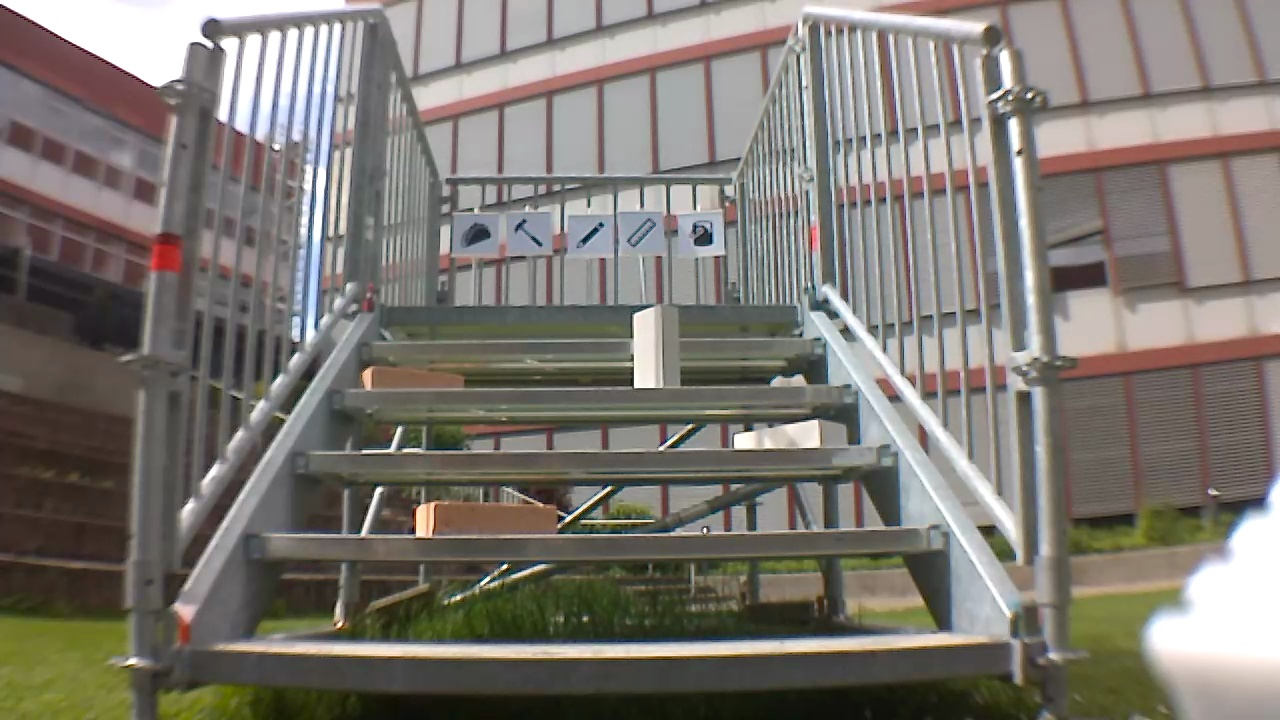brick: (417, 501, 556, 535), (633, 306, 677, 389), (732, 421, 845, 447), (362, 366, 463, 391)
bucket: (686, 216, 720, 251)
edge: (193, 641, 1013, 693), (249, 527, 946, 559), (295, 445, 898, 472), (332, 384, 861, 406), (363, 337, 829, 356), (383, 304, 805, 323)
hammer: (509, 216, 545, 254)
pencil: (572, 217, 608, 255)
ruler: (621, 217, 662, 250)
stairs: (110, 8, 1078, 719)
steps: (179, 299, 1020, 700)
taco: (458, 217, 492, 254)
